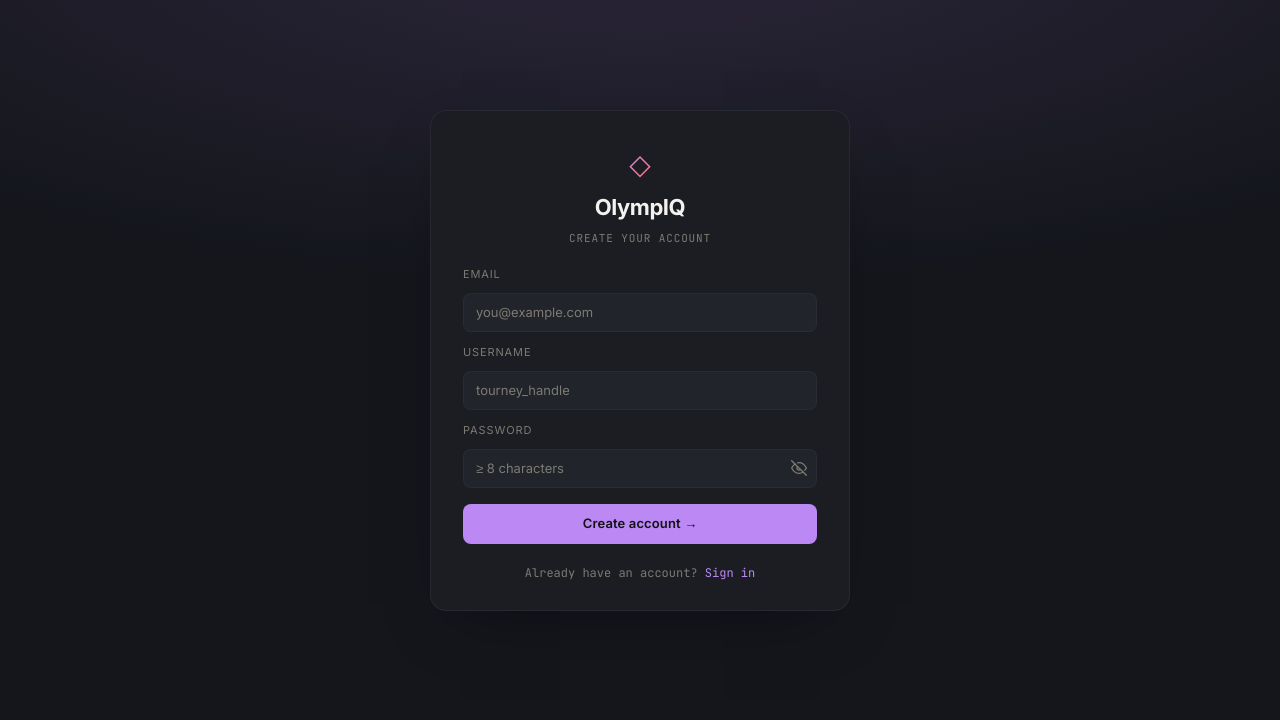
Scenario: shows password length error before submitting
Type "a@b.com" into the field labelled "Email".
click(640, 312); type("a@b.com")  # box 463,292 -> 817,332
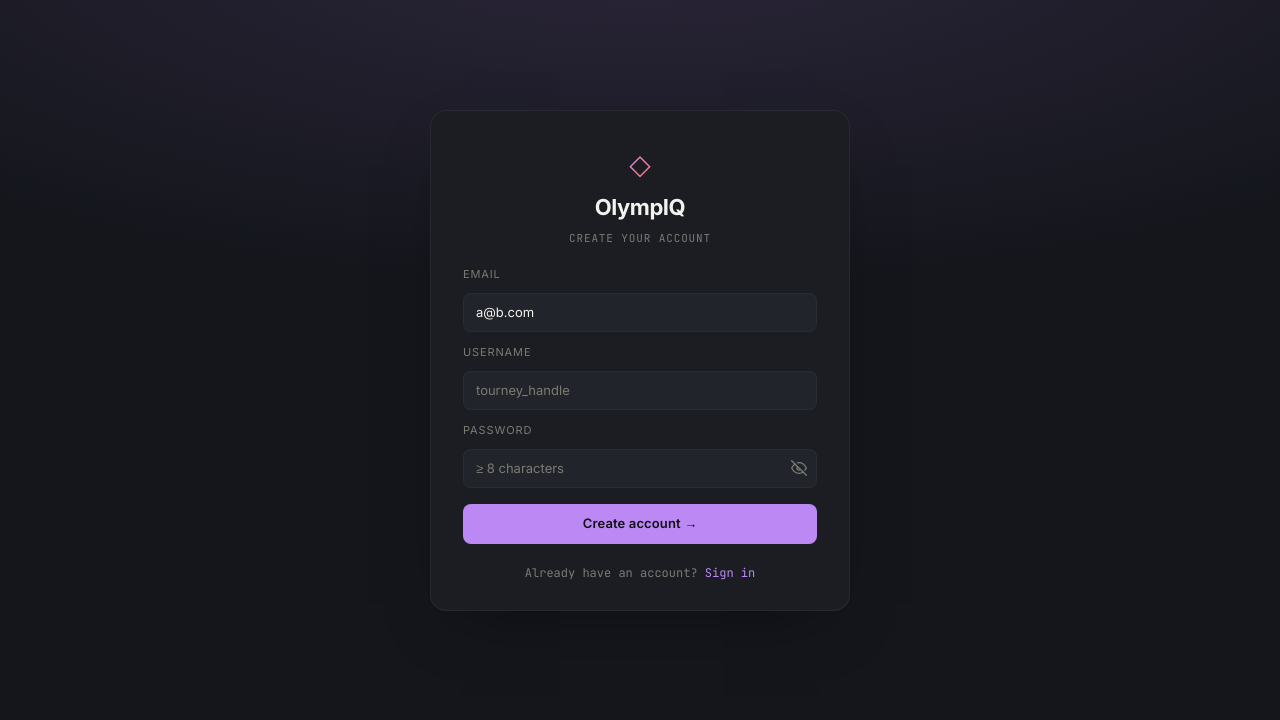
Type "alice" into the field labelled "Username".
click(640, 390); type("alice")  # box 463,370 -> 817,410
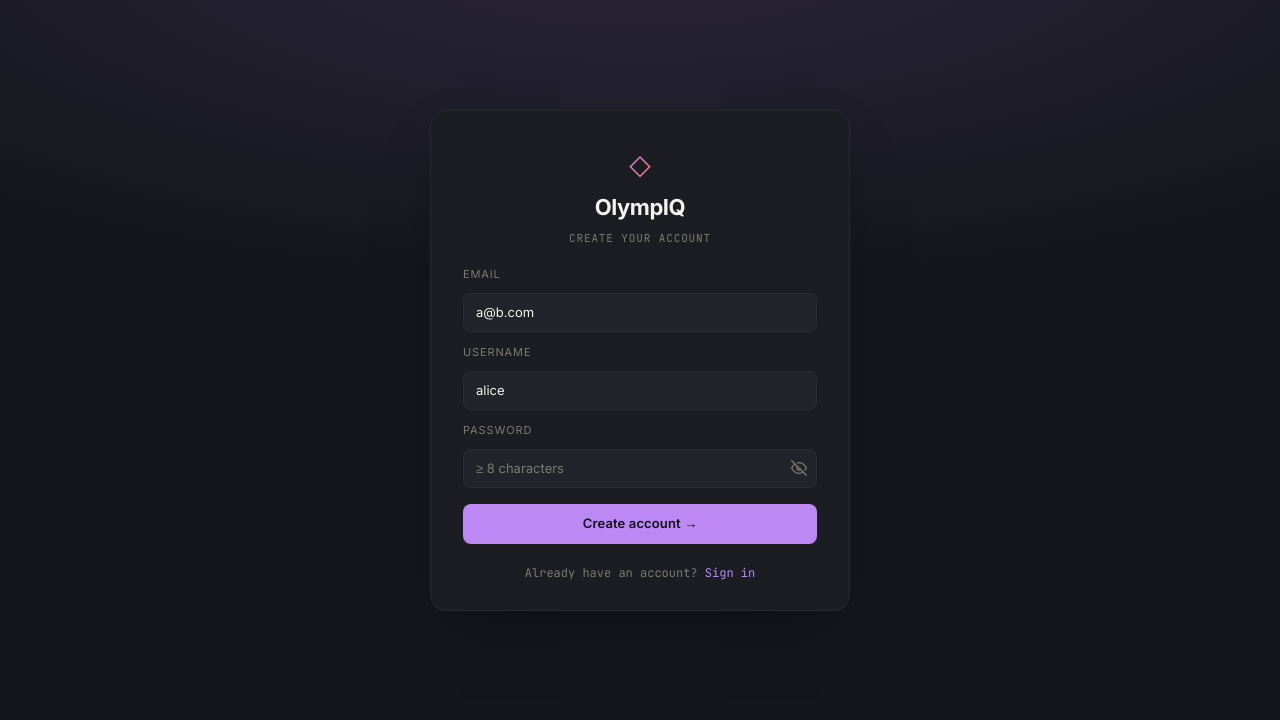
Type "short" into the password field labelled "Password".
click(640, 468); type("short")  # box 463,448 -> 817,488
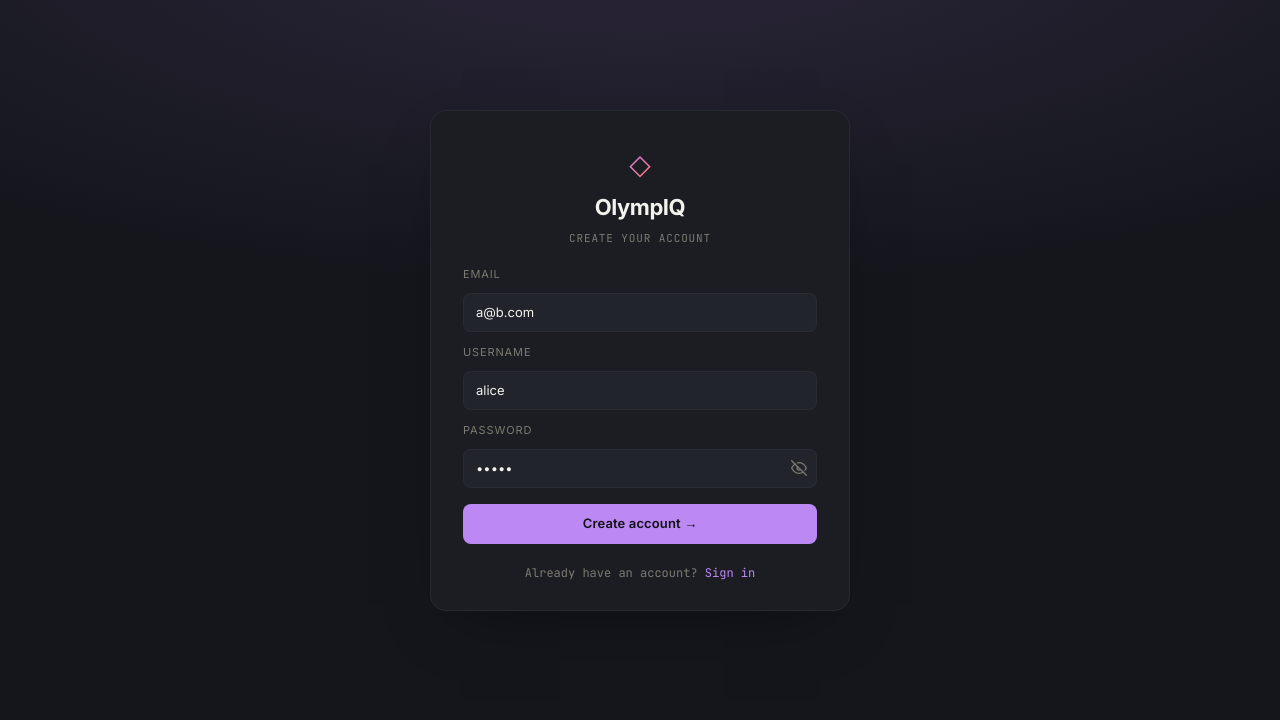
Click the button "Create account →".
click(640, 524)  # box 463,504 -> 817,544
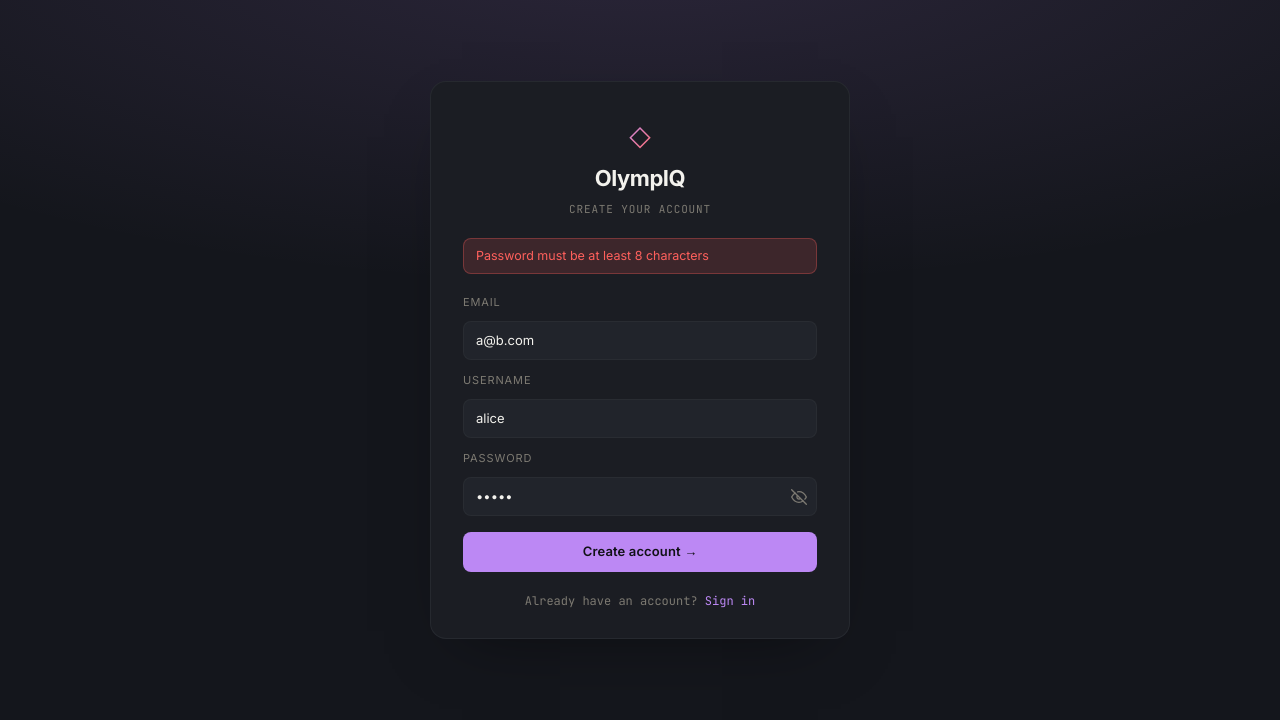
Now the text "Password must be at least 8 characters" is shown, box 463,238 -> 817,274
